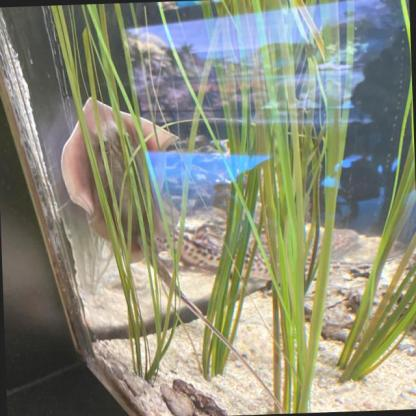stingray: (58, 94, 183, 265)
